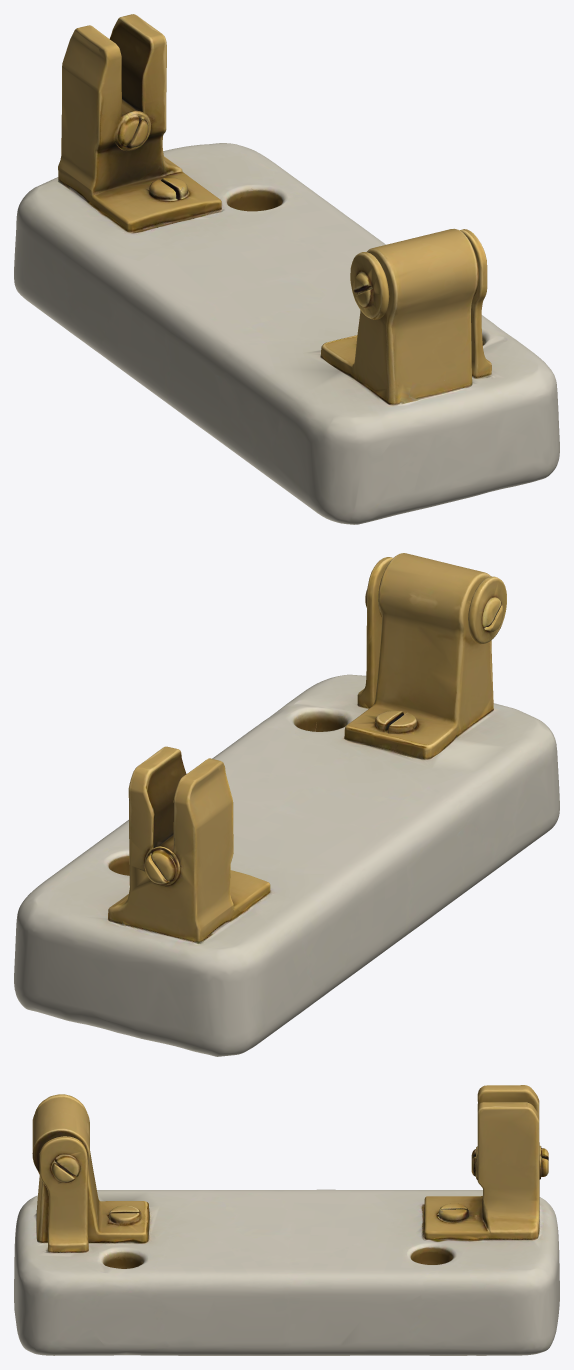
The model's file is knife.glb.
The picture shows the model from 3 angles, top to bottom: view 1: azimuth 30°, elevation 25°; view 2: azimuth 150°, elevation 25°; view 3: azimuth 270°, elevation 25°; orthographic projection. The views are drawn at different scales.
Visible parts, largest first — view 1: tripo_node_d55c32c4-2a9c-44da-a581-1d8103e80f49; view 2: tripo_node_d55c32c4-2a9c-44da-a581-1d8103e80f49; view 3: tripo_node_d55c32c4-2a9c-44da-a581-1d8103e80f49.
Part boxes in pixels (bbox=[...]): tripo_node_d55c32c4-2a9c-44da-a581-1d8103e80f49: bbox=[14, 14, 559, 524]; tripo_node_d55c32c4-2a9c-44da-a581-1d8103e80f49: bbox=[14, 553, 559, 1056]; tripo_node_d55c32c4-2a9c-44da-a581-1d8103e80f49: bbox=[14, 1085, 559, 1355].
Size of the model in its own units: 0.4075 by 0.4176 by 0.9999.
1 material, 1 textured.
